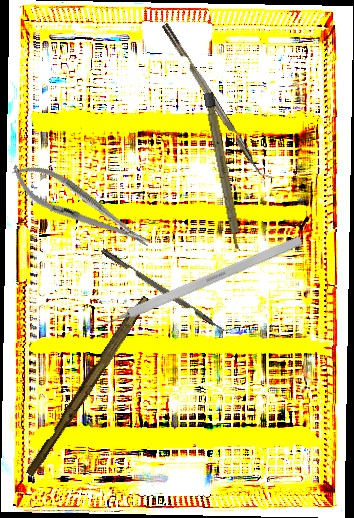Chopper: (161, 17, 275, 186), (100, 241, 237, 340)
Hook Surgical: (85, 234, 304, 337)
Needle Holder: (3, 152, 158, 262)
Scalpel Handle: (24, 291, 150, 480), (203, 92, 244, 252)
